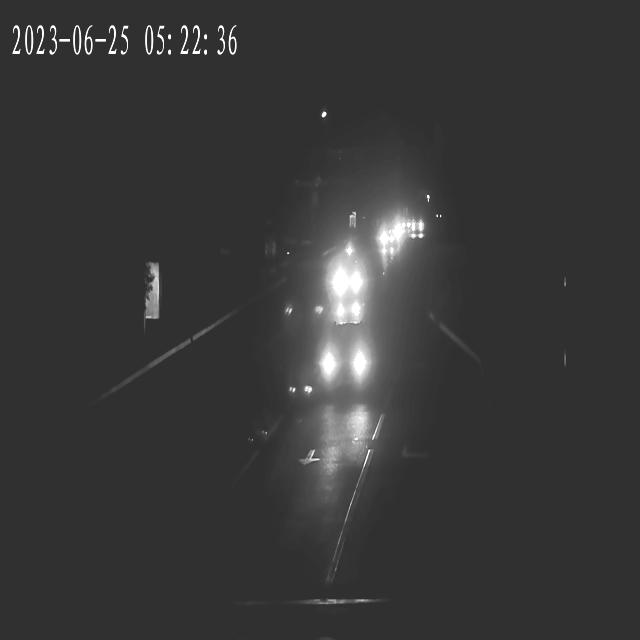Car: (321, 328, 376, 394), (331, 250, 366, 299), (379, 224, 397, 248), (392, 217, 408, 238), (410, 219, 428, 236)
